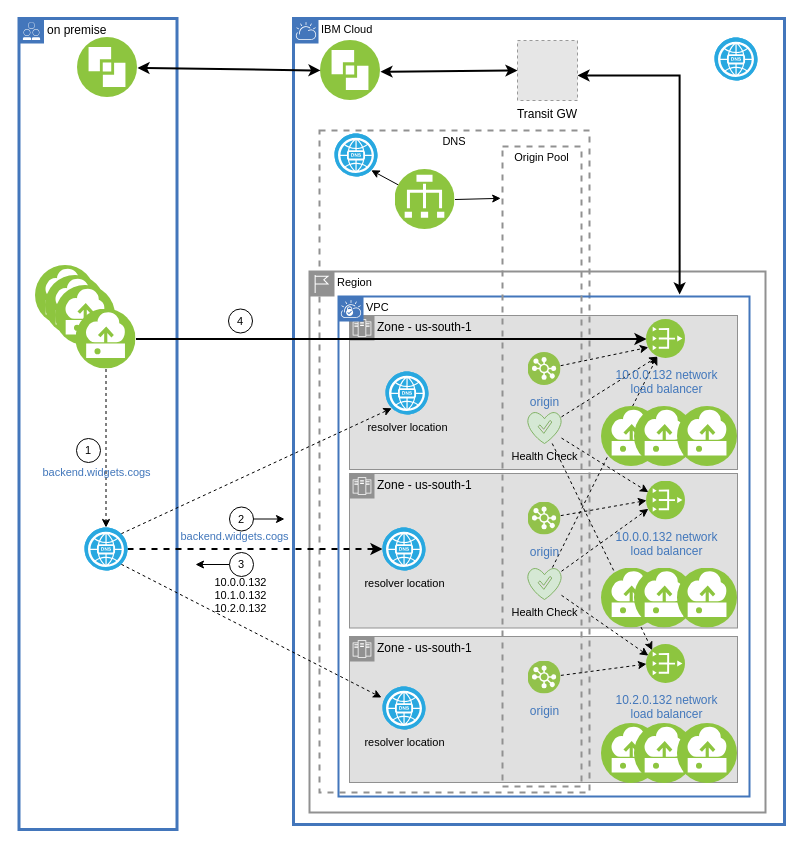
Image size: 803x848. Some labels were removed from this diagram. Grey dashed boxes stand in for pictures. Each missing label, with the centre of its shape:
"Client" goes at (106,338).
"Direct Link" goes at (350,70).
"Direct Link support" goes at (107,67).
"DNS Resolver" goes at (106,548).
"DNS Services" goes at (736,58).
"GLB backend.widgets.cogs" goes at (424,199).
"zone widgets.cogs" goes at (356,154).
